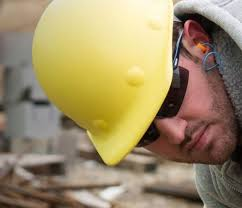Person_wearing_helmet: (22, 0, 184, 179)
